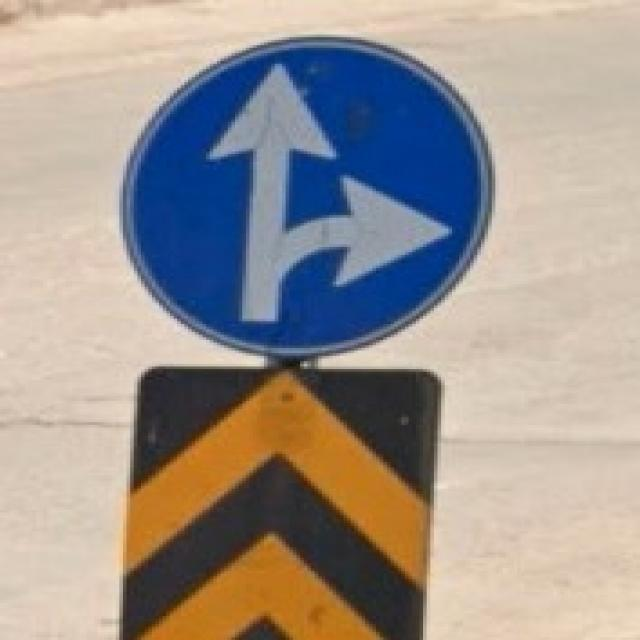Straight or Right: (124, 40, 485, 350)
